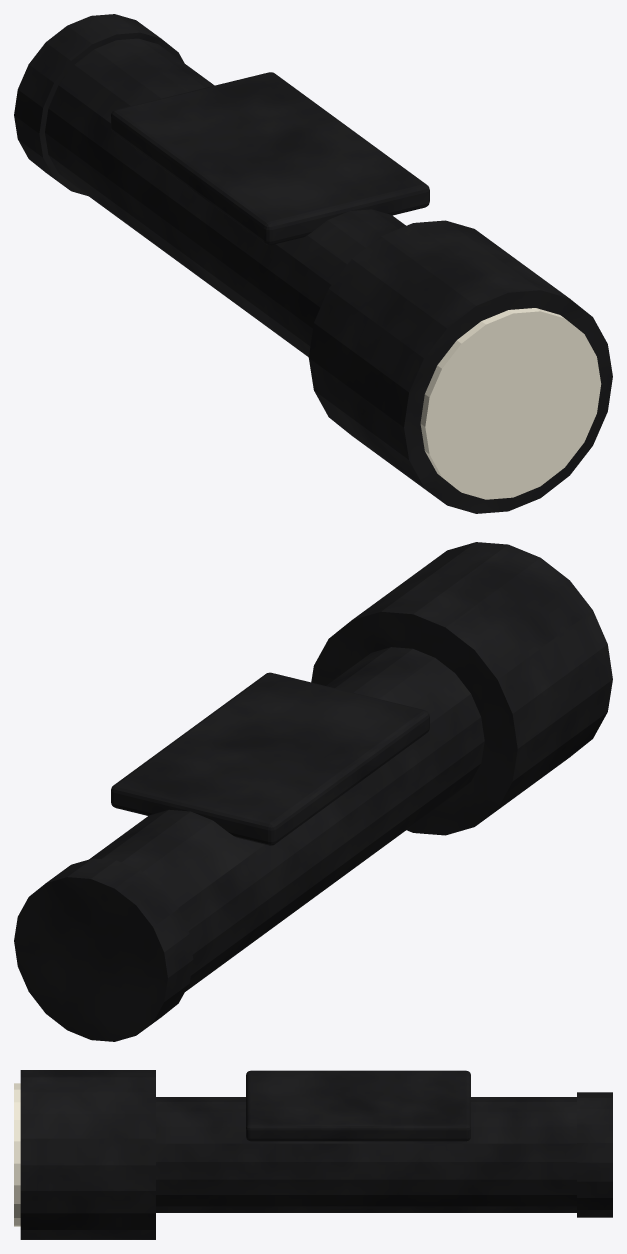
The model's file is PRP_Flashlight.fbx.
The picture shows the model from 3 angles, top to bottom: view 1: azimuth 30°, elevation 25°; view 2: azimuth 150°, elevation 25°; view 3: azimuth 270°, elevation 25°; orthographic projection. The views are drawn at different scales.
Visible parts, largest first — view 1: Flashlight_Body, Flashlight_Lens; view 2: Flashlight_Body; view 3: Flashlight_Body, Flashlight_Lens.
Boxes of the visible parts, x1,y1,x2,y2 form: Flashlight_Body: (14,14,612,513); Flashlight_Lens: (420,308,601,499); Flashlight_Body: (14,542,612,1041); Flashlight_Body: (20,1070,612,1239); Flashlight_Lens: (14,1083,20,1226).
Size of the model in its own units: 3.8 by 3.8 by 13.3.
